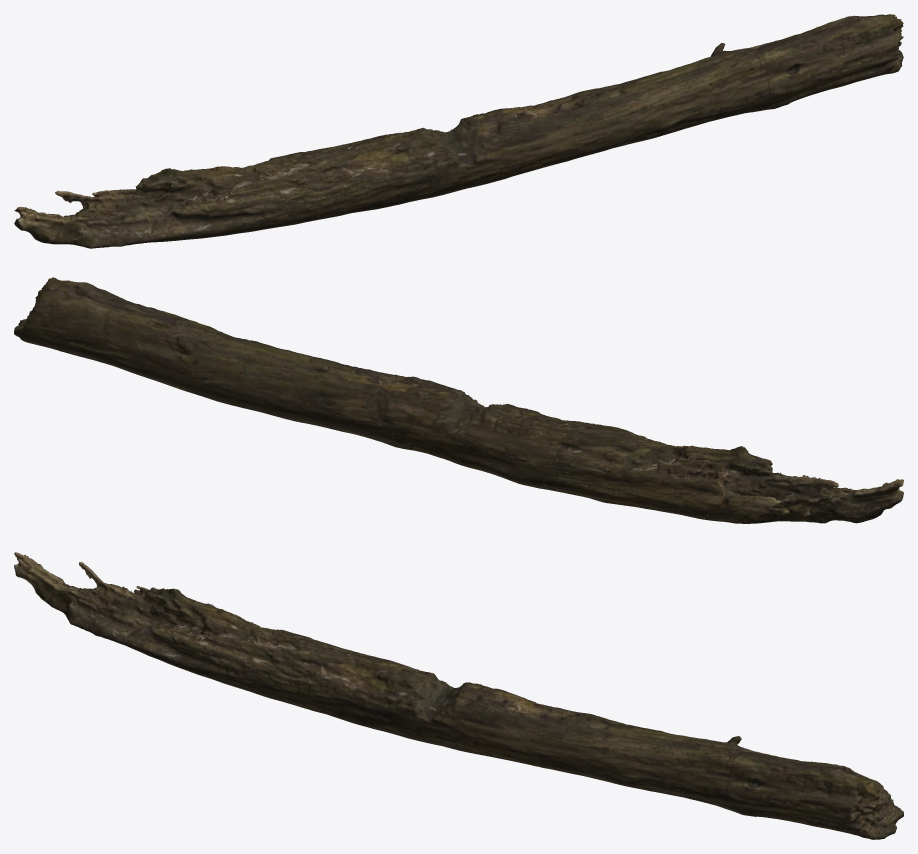
Rendered from dead-trunk.glb.
3 renders of one model, top to bottom at view 1: azimuth 30°, elevation 25°; view 2: azimuth 150°, elevation 25°; view 3: azimuth 330°, elevation 25°, orthographic.
Parts seen in each view (by area): view 1: dead_tree_trunk; view 2: dead_tree_trunk; view 3: dead_tree_trunk.
Boxes of the visible parts, left/top/right/bottom form: dead_tree_trunk: left=14, top=14, right=903, bottom=248; dead_tree_trunk: left=14, top=277, right=903, bottom=523; dead_tree_trunk: left=14, top=552, right=903, bottom=839.
Size of the model in its own units: 3.05 by 0.2905 by 0.2775.
1 material, 1 textured.
